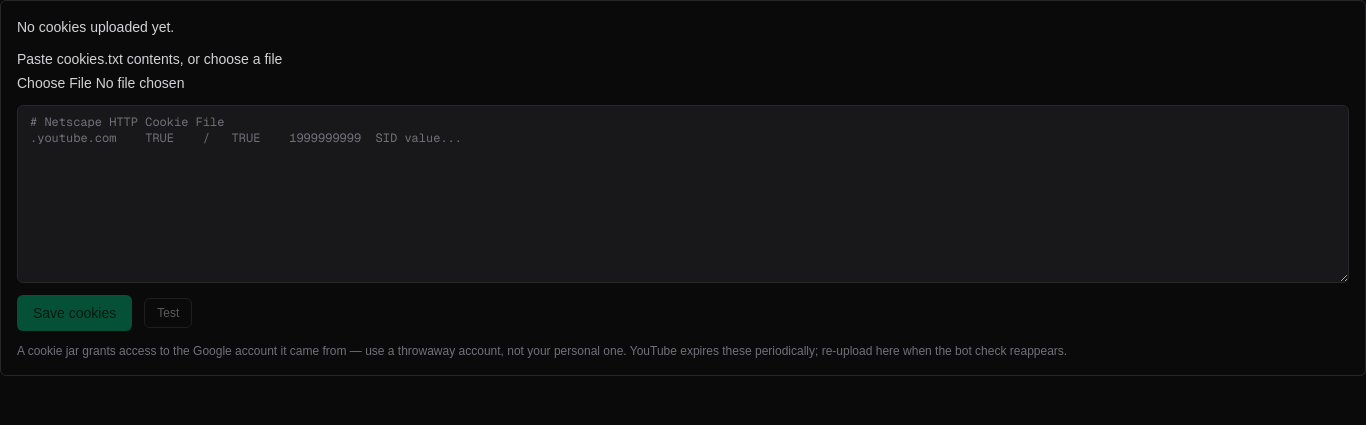
AdminCookiesPanel › saves the textarea contents via PUT and refreshes status
The image size is (1366, 425).
Expected: the text "No cookies uploaded yet." is shown, [17,19,174,35]
Type "raw-cookie-contents" into the text box with placeholder "Netscape HTTP Cookie File".
click(683, 194); type("raw-cookie-contents")  # box [17,105,1349,283]
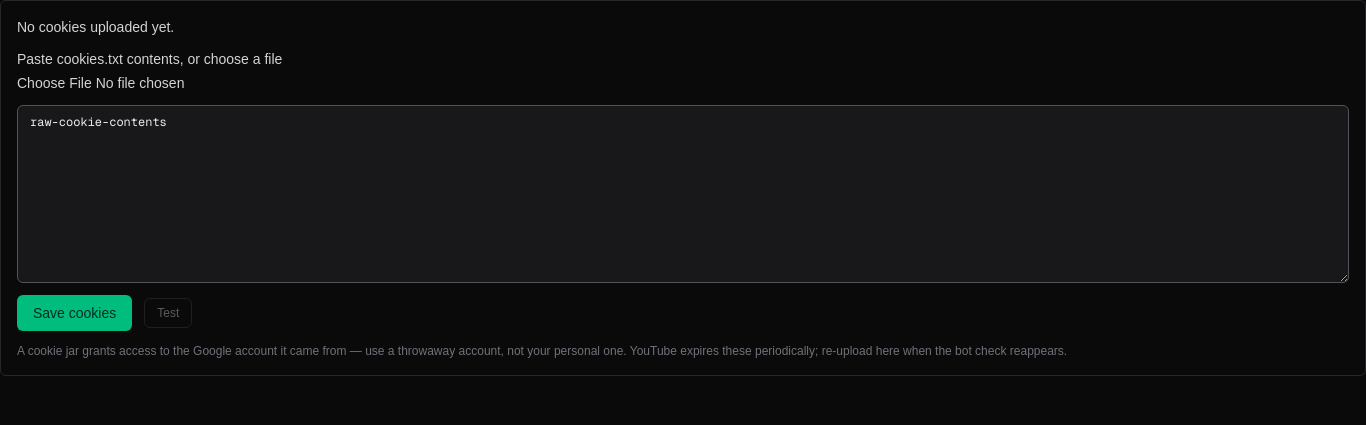
Click the button "Save cookies".
click(75, 313)  # box [17,295,132,331]
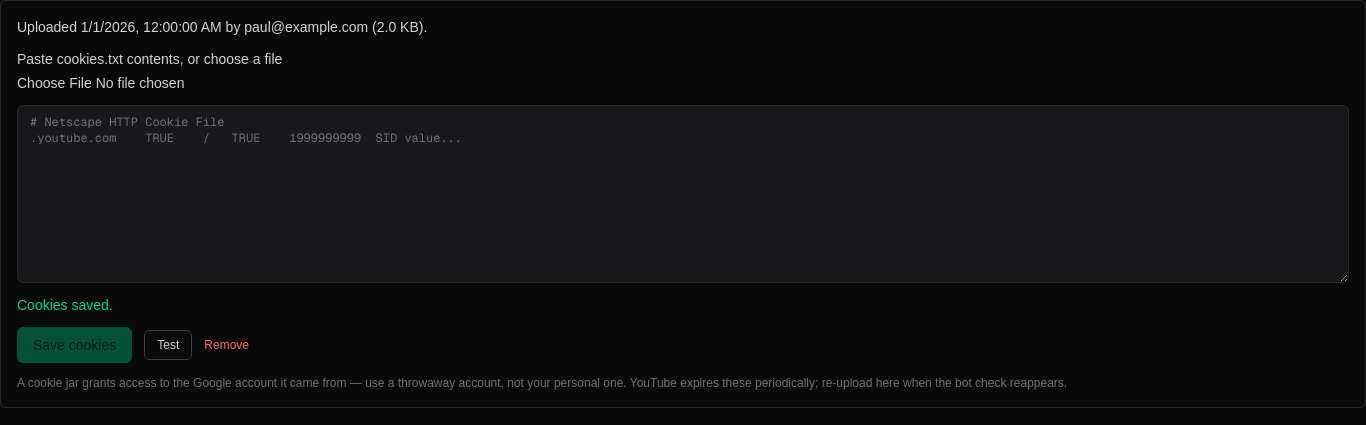
Result: the text "Cookies saved." is shown at [17,297,113,313]
Result: the text "Uploaded 1/1/2026, 12:00:00 AM by paul@example.com (2.0 KB)." is shown at [17,19,427,35]
